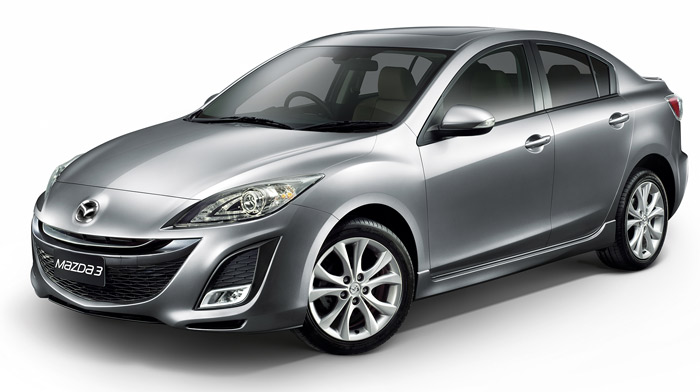sedan: (28, 23, 690, 354)
